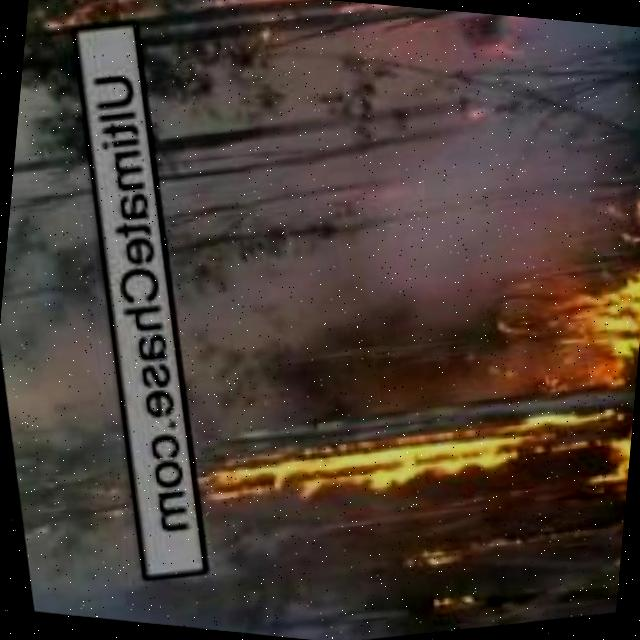fire: (202, 393, 590, 550), (527, 252, 640, 616), (31, 0, 156, 54), (207, 0, 356, 38), (397, 532, 483, 588), (430, 587, 494, 624)
